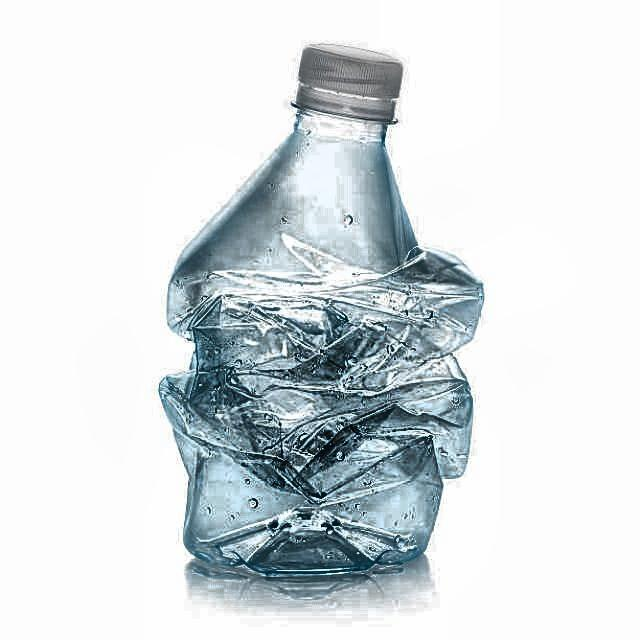plastic: (156, 43, 486, 595)
